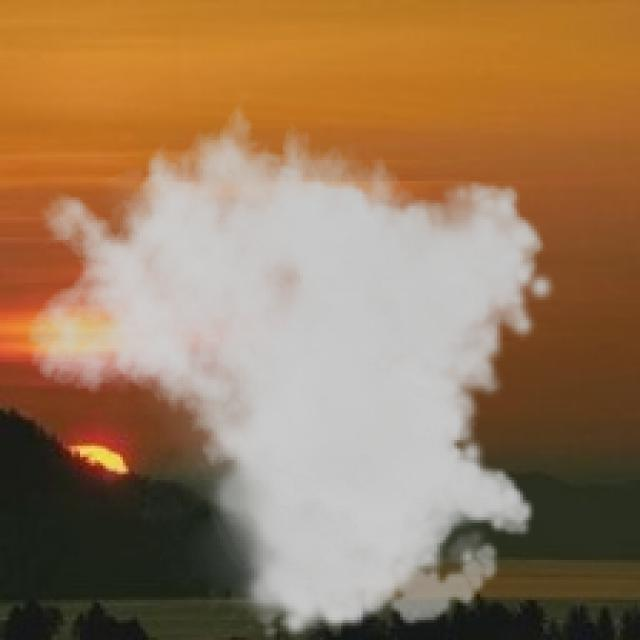smoke: (26, 86, 560, 637)
